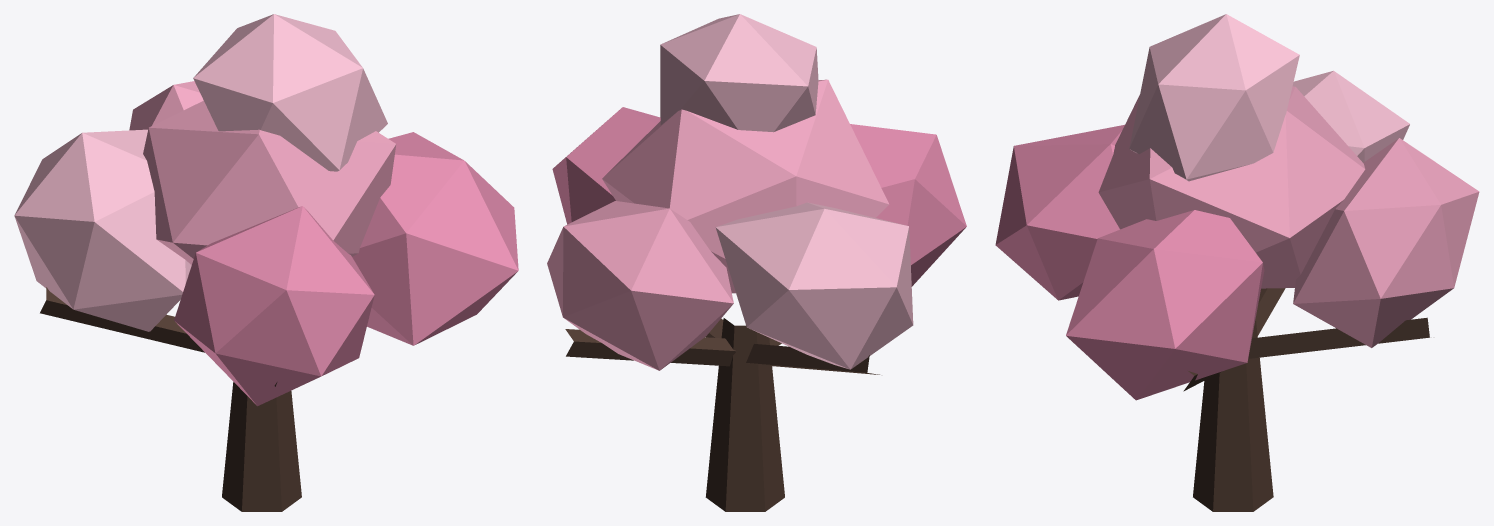
Rendered from tree-cherry.glb.
3 renders of one model, left to right at view 1: azimuth 30°, elevation 25°; view 2: azimuth 150°, elevation 25°; view 3: azimuth 270°, elevation 25°, orthographic.
Parts seen in each view (by area): view 1: tree; view 2: tree; view 3: tree.
Part boxes in pixels (x1,y1,x2,y2): tree: [14, 14, 518, 511]; tree: [547, 14, 966, 511]; tree: [995, 14, 1479, 511].
Bounding box in the file's own units: 0.2441 × 0.2662 × 0.2395.
